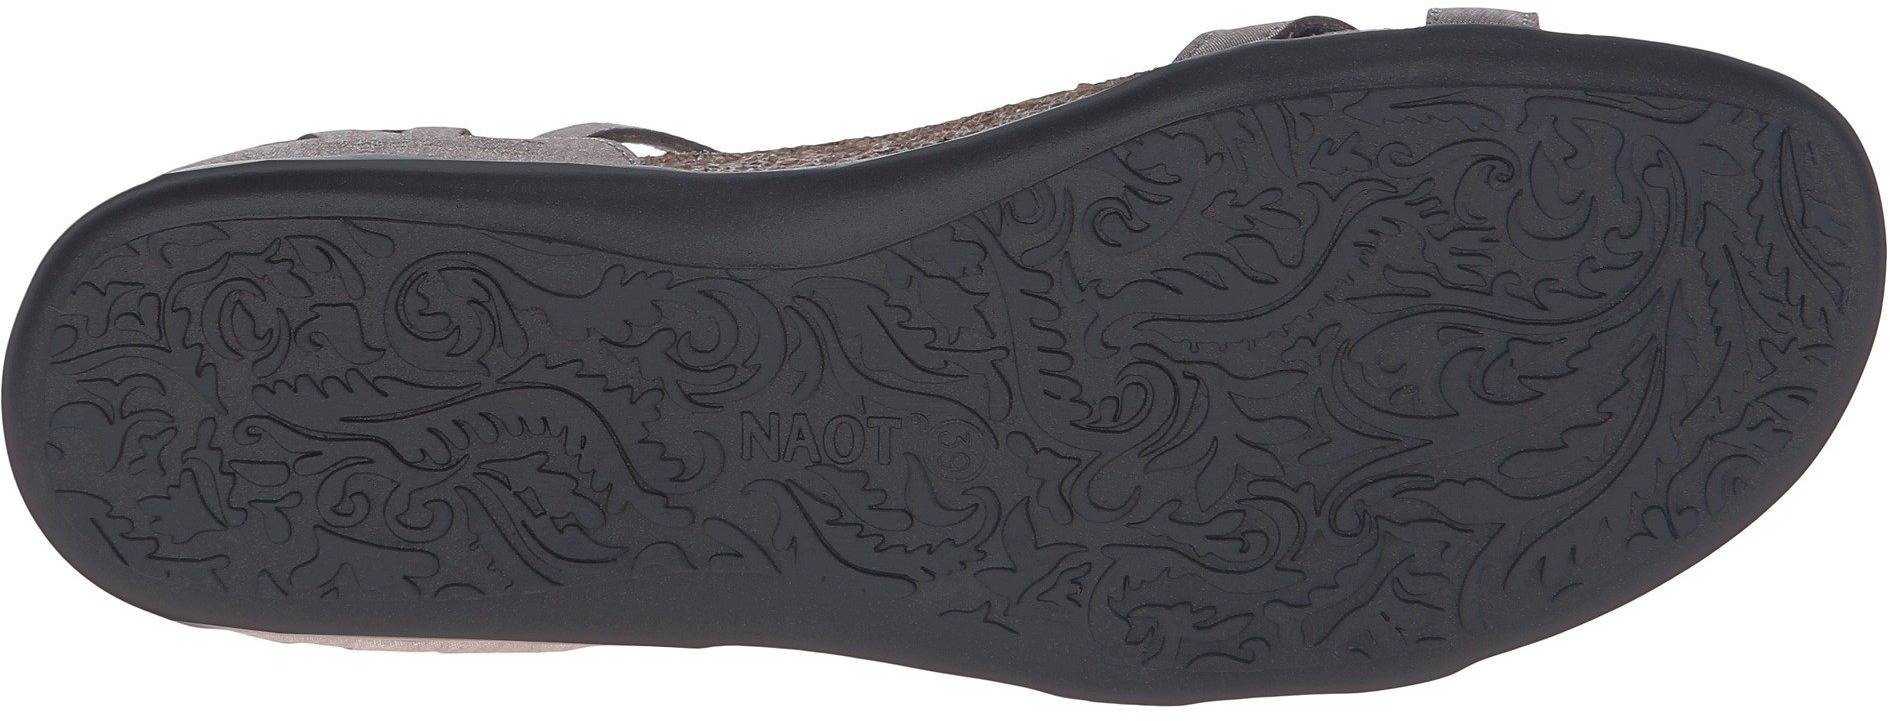text: (742, 398, 837, 483), (843, 398, 918, 485)
